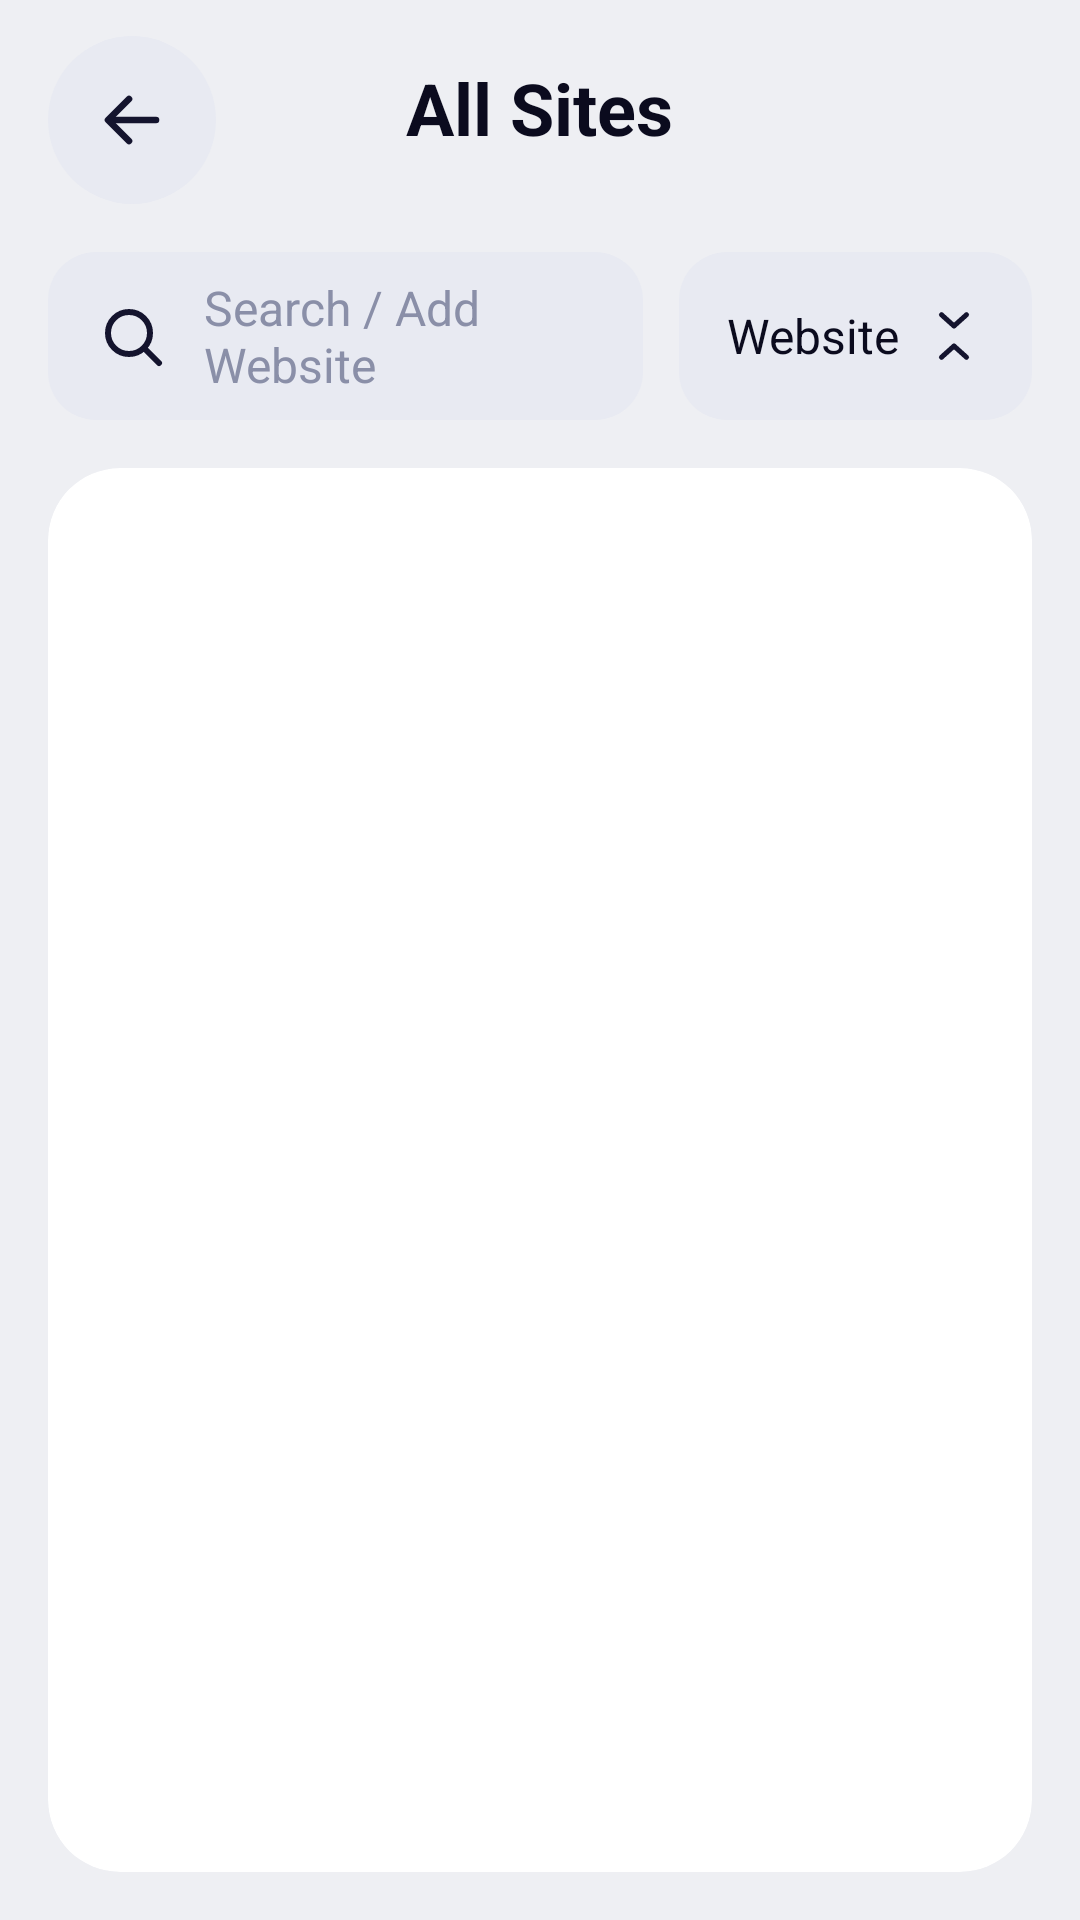

Icon click points for this 1080 x 1920 phone screenshot, format (x,y):
Back: (132,120)
